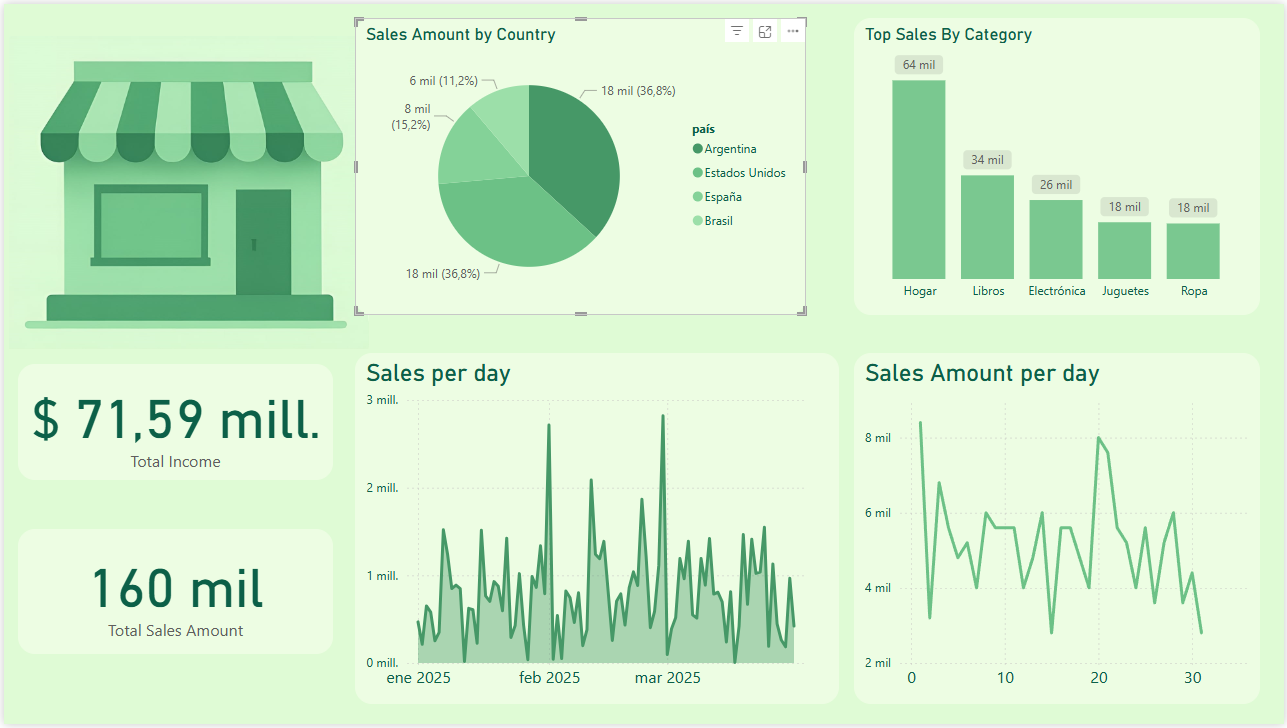

The page's visual inventory and layout, read from the dashboard file:
{"tool":"powerbi","page":{"name":"Página 1","canvas":[1280,720],"ordinal":0},"visuals":[{"type":"image","box":[0,0,370,376],"z":0},{"type":"card","fields":{"Values":["Sum(ventas.total)"]},"box":[14,360,315,116],"z":1000},{"type":"card","fields":{"Values":["Sum(ventas.Cant ventas)"]},"box":[14,525,315,125],"z":2000},{"type":"lineChart","title":"Sales Amount per day ","fields":{"Category":["ventas.fecha.Variación.Jerarquía de fechas.Día"],"Y":["Sum(ventas.Cant ventas)"]},"box":[850,349,406,351],"z":3000},{"type":"columnChart","title":"Top Sales By Category","fields":{"Category":["productos.categoría"],"Y":["Sum(ventas.Cant ventas)"]},"box":[850,14,406,297],"z":4000},{"type":"pieChart","title":"Sales Amount by Country","fields":{"Category":["sucursales.país"],"Y":["Sum(ventas.Cant ventas)"]},"box":[351,14,451,297],"z":5000},{"type":"stackedAreaChart","title":"Sales per day ","fields":{"Y":["Sum(ventas.total)"],"Category":["ventas.fecha.Variación.Jerarquía de fechas.Año","ventas.fecha.Variación.Jerarquía de fechas.Trimestre","ventas.fecha.Variación.Jerarquía de fechas.Mes","ventas.fecha.Variación.Jerarquía de fechas.Día"]},"box":[351,349,484,351],"z":6000}]}

Visuals, with their boxes in screenshot pixels (x1, y1, x2, y2), scaled from the page's 1280x720 canvas onto the 1287x728 screenshot:
image: Rect(0, 0, 372, 380)
card - Sum(ventas.total): Rect(14, 364, 331, 481)
card - Sum(ventas.Cant ventas): Rect(14, 531, 331, 657)
"Sales Amount per day " lineChart: Rect(855, 353, 1263, 708)
"Top Sales By Category" columnChart: Rect(855, 14, 1263, 314)
"Sales Amount by Country" pieChart: Rect(353, 14, 806, 314)
"Sales per day " stackedAreaChart: Rect(353, 353, 840, 708)
